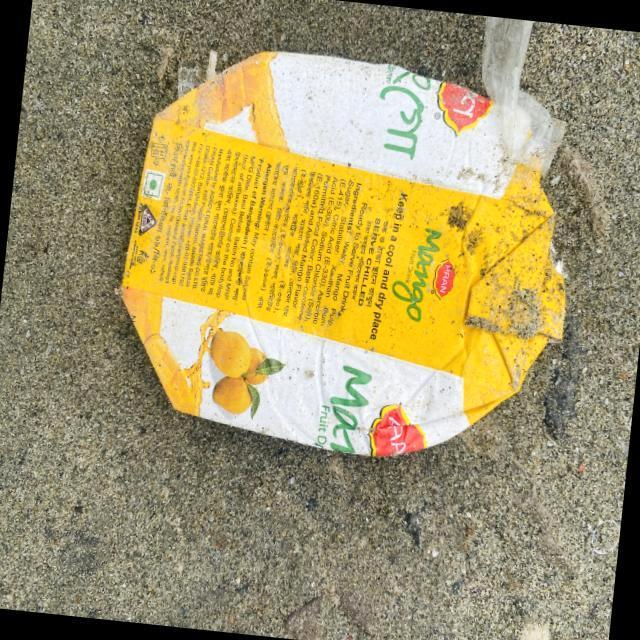packet: (108, 39, 593, 480)
